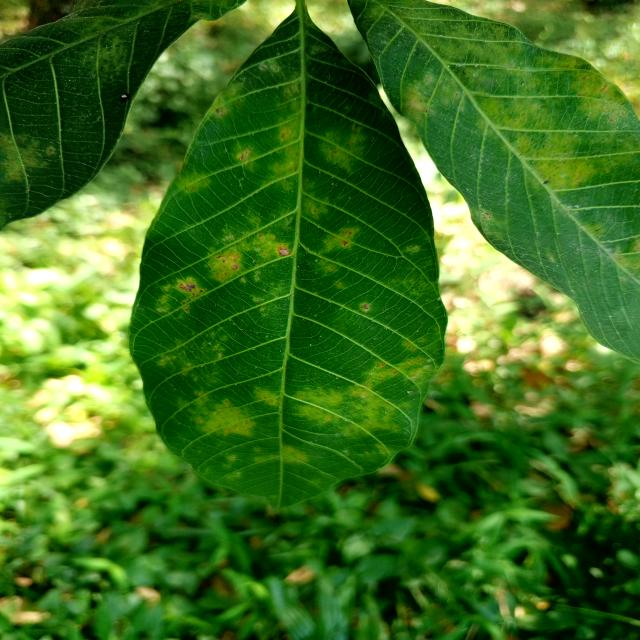Colletotrichum: (231, 265, 238, 270)
